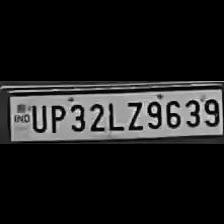2: (86, 98, 106, 132)
3: (66, 99, 86, 131), (183, 95, 201, 127)
6: (162, 96, 180, 128)
9: (200, 94, 220, 126), (143, 96, 161, 128)
L: (105, 97, 123, 130)
P: (46, 100, 66, 132)
U: (28, 100, 46, 132)
Z: (122, 96, 142, 130)
